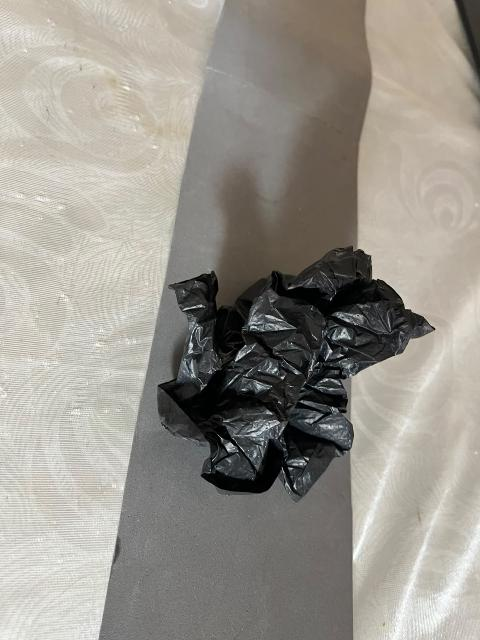LDPE: (127, 216, 463, 525)
